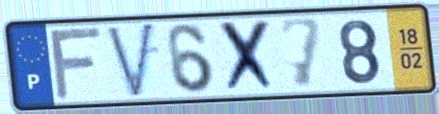6: (165, 21, 218, 97)
7: (278, 15, 325, 92)
8: (337, 17, 384, 86)
F: (47, 24, 105, 103)
V: (103, 19, 159, 102)
X: (216, 16, 280, 96)
